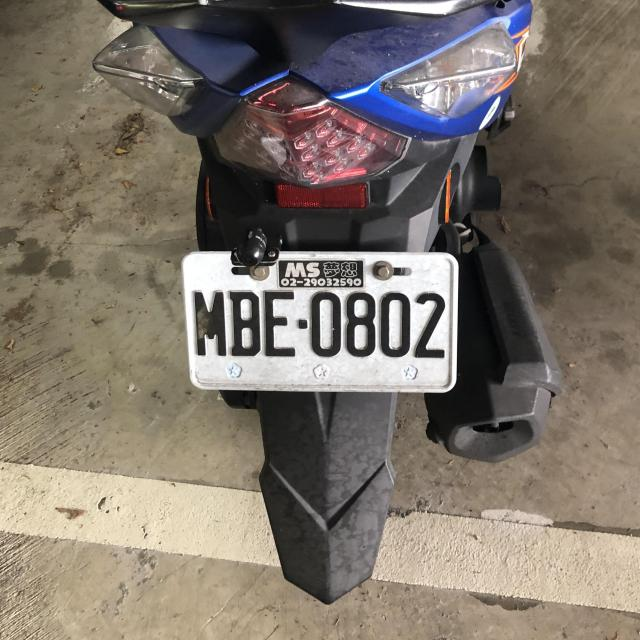W: (178, 246, 456, 394)
